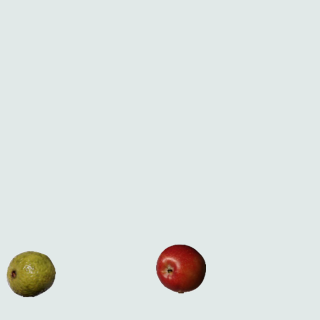Apple Braeburn: (155, 243, 205, 293)
Guava: (5, 248, 55, 298)
